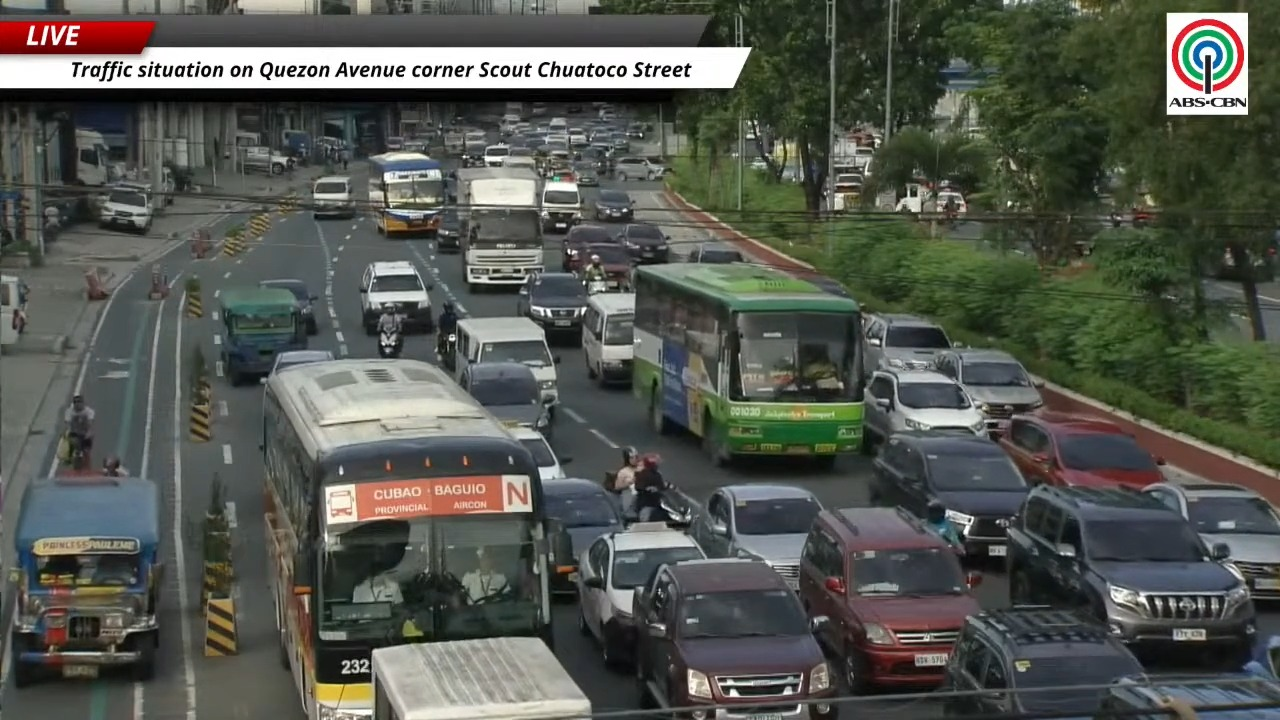bus: (262, 359, 562, 719), (633, 263, 864, 464), (368, 152, 445, 235)
car: (1006, 484, 1256, 667), (800, 507, 981, 694), (632, 559, 838, 719), (943, 607, 1142, 716), (869, 431, 1028, 557), (577, 523, 704, 666), (1143, 483, 1279, 599), (688, 484, 821, 589), (998, 410, 1164, 489), (863, 370, 984, 450), (542, 476, 624, 594), (935, 349, 1043, 433), (1092, 673, 1279, 719), (459, 362, 551, 436), (359, 261, 434, 335), (864, 314, 954, 374), (517, 272, 587, 337), (509, 425, 571, 481), (259, 278, 317, 335), (575, 242, 633, 289), (99, 187, 153, 234), (561, 225, 616, 271), (618, 222, 669, 263), (311, 176, 356, 218), (270, 349, 334, 374), (593, 189, 634, 221), (687, 242, 746, 263), (803, 274, 852, 298), (436, 205, 461, 252), (614, 156, 661, 181), (581, 144, 612, 176), (571, 161, 599, 186), (462, 140, 487, 167), (482, 144, 509, 166), (646, 156, 671, 178), (509, 137, 534, 157), (609, 131, 630, 152), (626, 122, 645, 138)
motorcycle: (635, 485, 691, 527), (378, 330, 401, 358), (437, 333, 455, 363), (586, 278, 608, 294)
truck: (371, 637, 591, 719), (457, 168, 544, 286), (238, 146, 294, 174)
